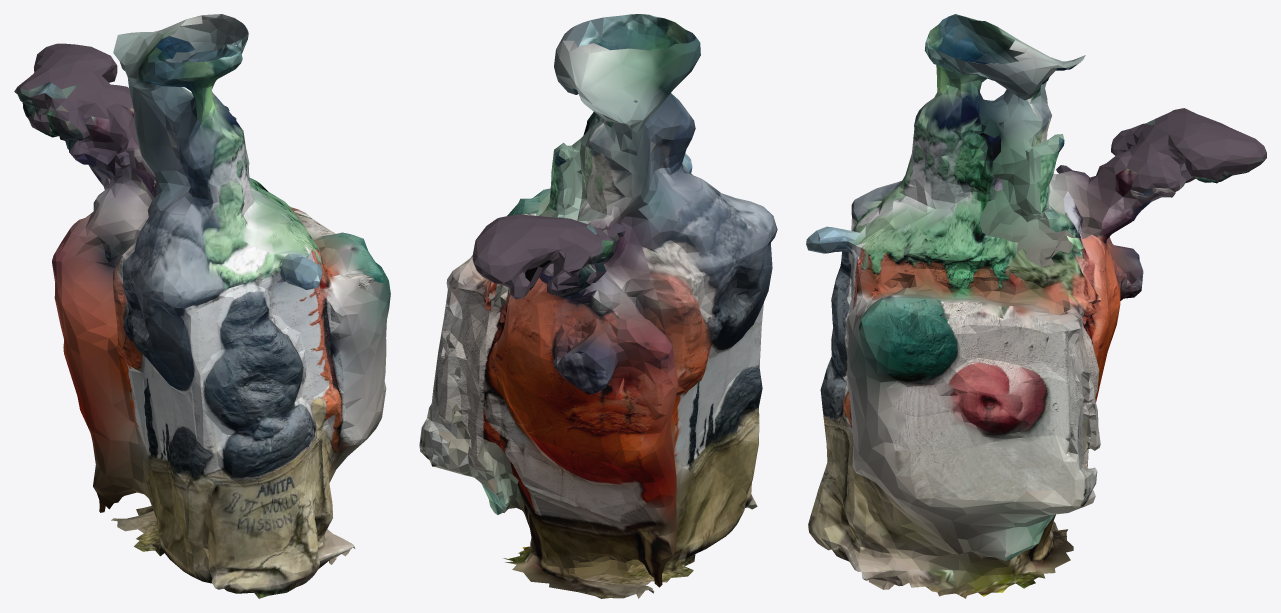
The model's file is S016_Statue.glb.
3 views of the same model, side by side, from view 1: azimuth 30°, elevation 25°; view 2: azimuth 150°, elevation 25°; view 3: azimuth 270°, elevation 25° (orthographic). The views are drawn at different scales.
Visible parts, largest first — view 1: Object_4; view 2: Object_4; view 3: Object_4.
Part boxes in pixels (<box>): Object_4: <box>14,14,390,598</box>; Object_4: <box>419,14,777,598</box>; Object_4: <box>806,14,1266,598</box>.
Size of the model in its own units: 1.85 by 3.67 by 3.
Materials: 1 (1 with a texture image).
